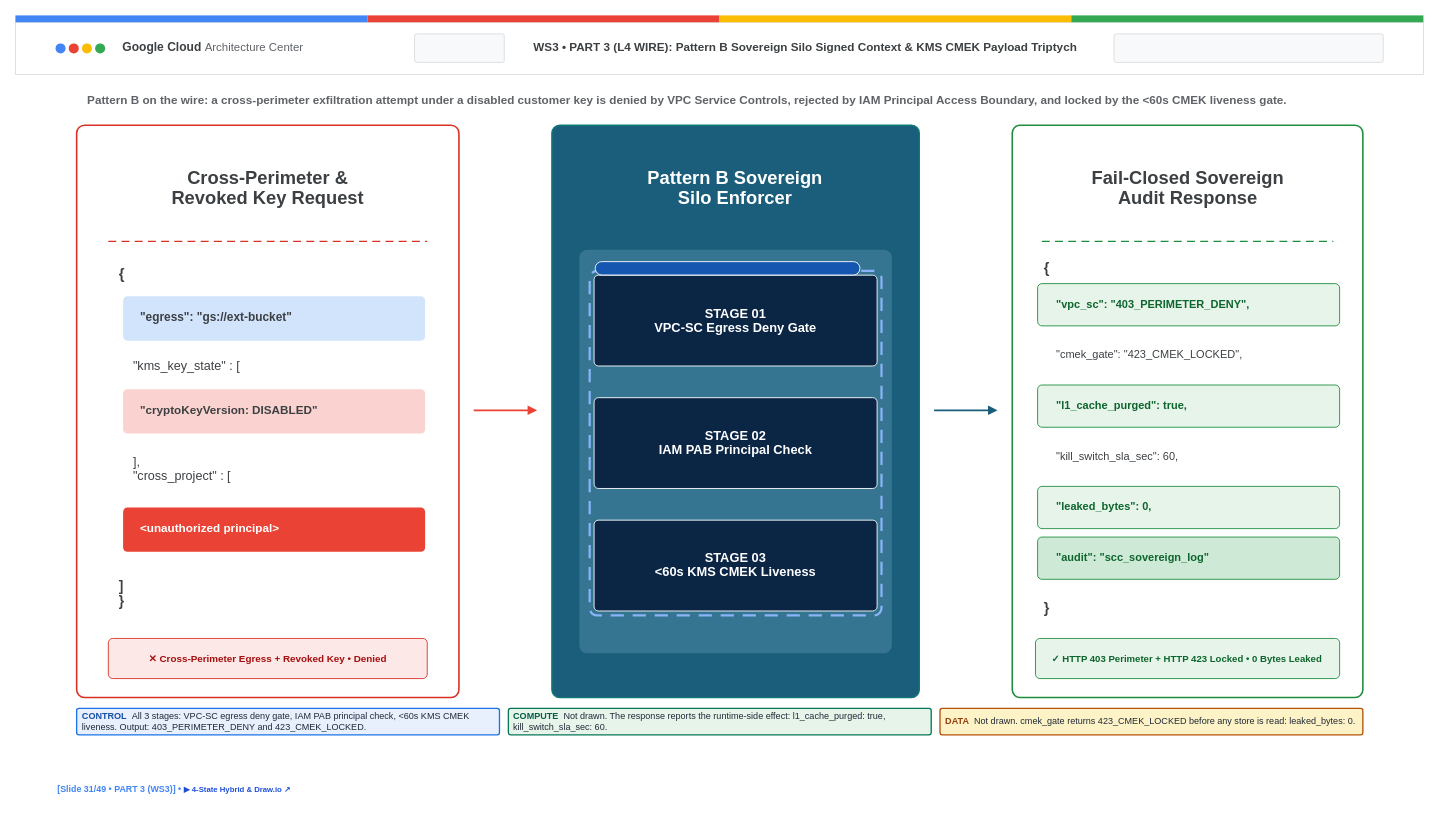
The diagram is 1439 pixels wide and 816 high, and some of its shapes have lost their labels. Here are the shapes that lost their labels. From the top down, the centre of each, then its label:
At [459,47]: "WS3".
At [1248,47]: "PAYLOAD-TRANSFORMATION".
At [727,268]: "CONTROL · silo enforcer: perimeter, PAB, key liveness".
